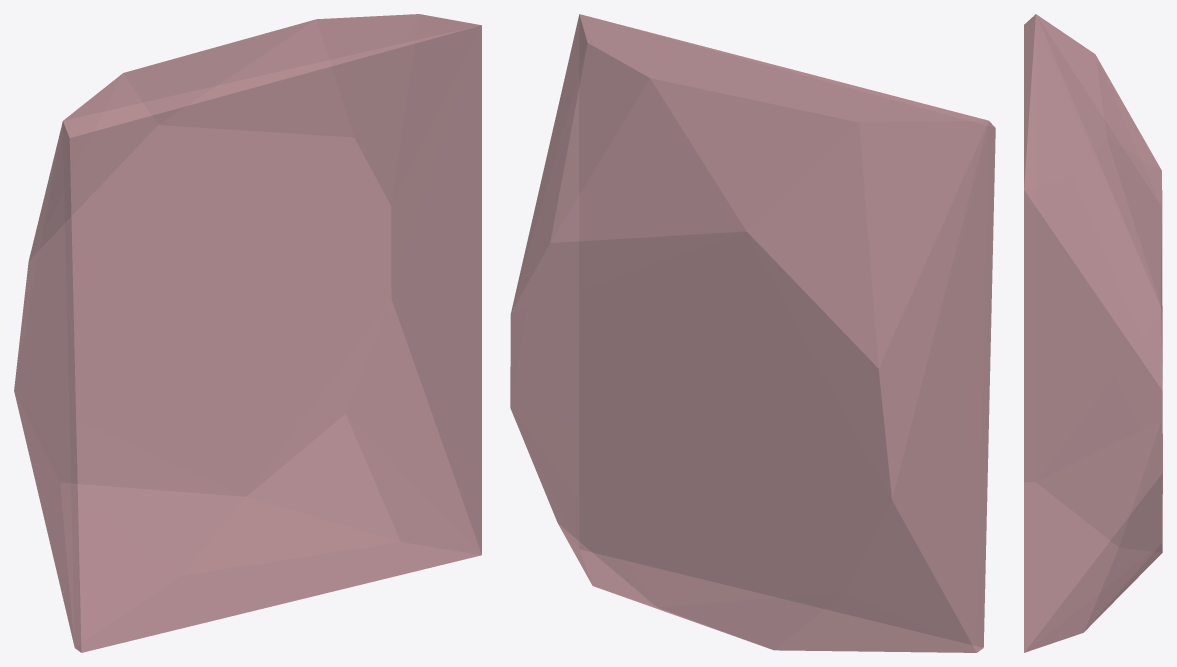
3 renders of one model, left to right at view 1: azimuth 30°, elevation 25°; view 2: azimuth 150°, elevation 25°; view 3: azimuth 270°, elevation 25°, orthographic. The views are drawn at different scales.
Parts seen in each view (by area): view 1: Shape_IndexedFaceSet.004_Shape_IndexedFaceSet.4758; view 2: Shape_IndexedFaceSet.004_Shape_IndexedFaceSet.4758; view 3: Shape_IndexedFaceSet.004_Shape_IndexedFaceSet.4758.
Boxes of the visible parts, bbox=[...] form: Shape_IndexedFaceSet.004_Shape_IndexedFaceSet.4758: bbox=[14, 14, 481, 652]; Shape_IndexedFaceSet.004_Shape_IndexedFaceSet.4758: bbox=[510, 14, 995, 652]; Shape_IndexedFaceSet.004_Shape_IndexedFaceSet.4758: bbox=[1024, 14, 1162, 652].
Size of the model in its own units: 0.2742 by 0.3369 by 0.0915.
